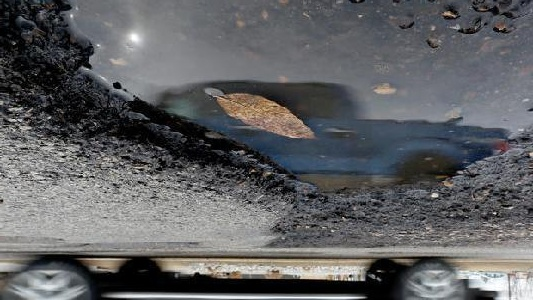pothole: (1, 0, 532, 250)
